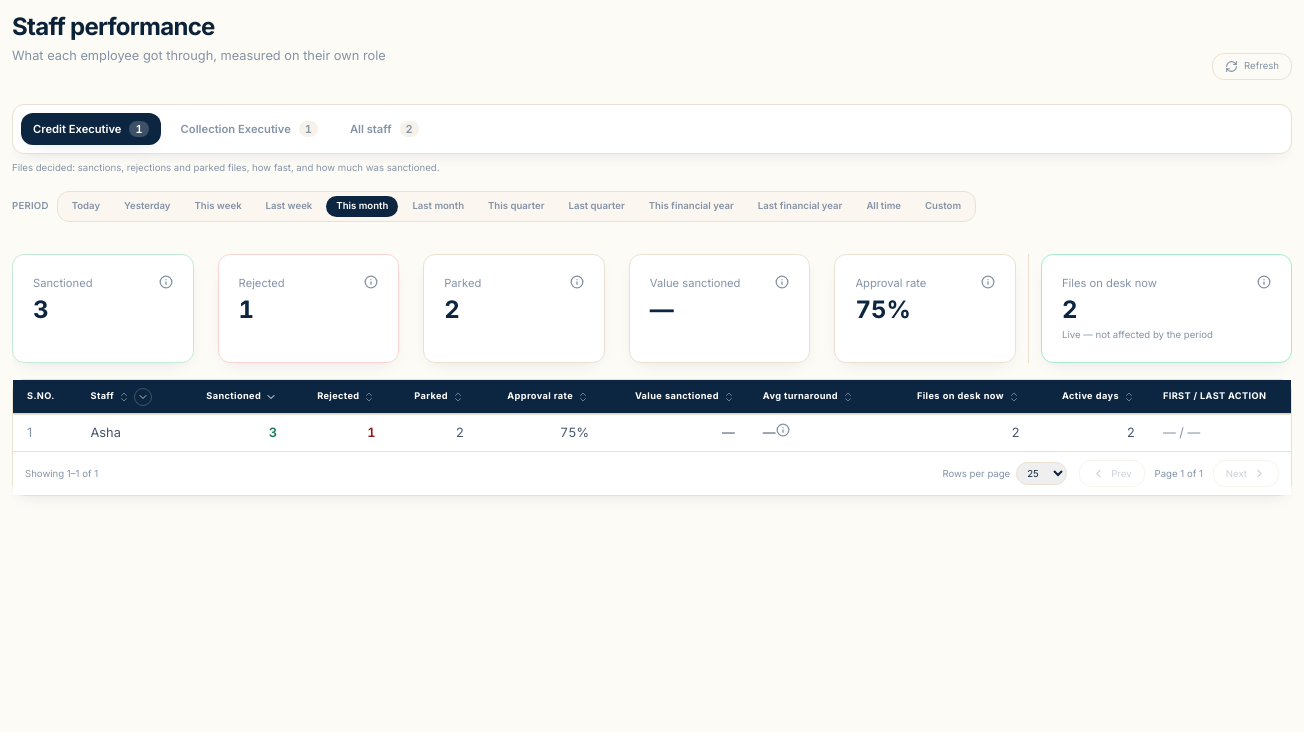
Test: StaffPerformancePage › switches entity to show that role's own parameters and only its staff
Expected: the text "Bilal" is not shown
What coordinates should you click on to do the following:
click the tab "Collection Executive 1"
I would click on:
 (249, 129)
Its box is [169,113,330,145].
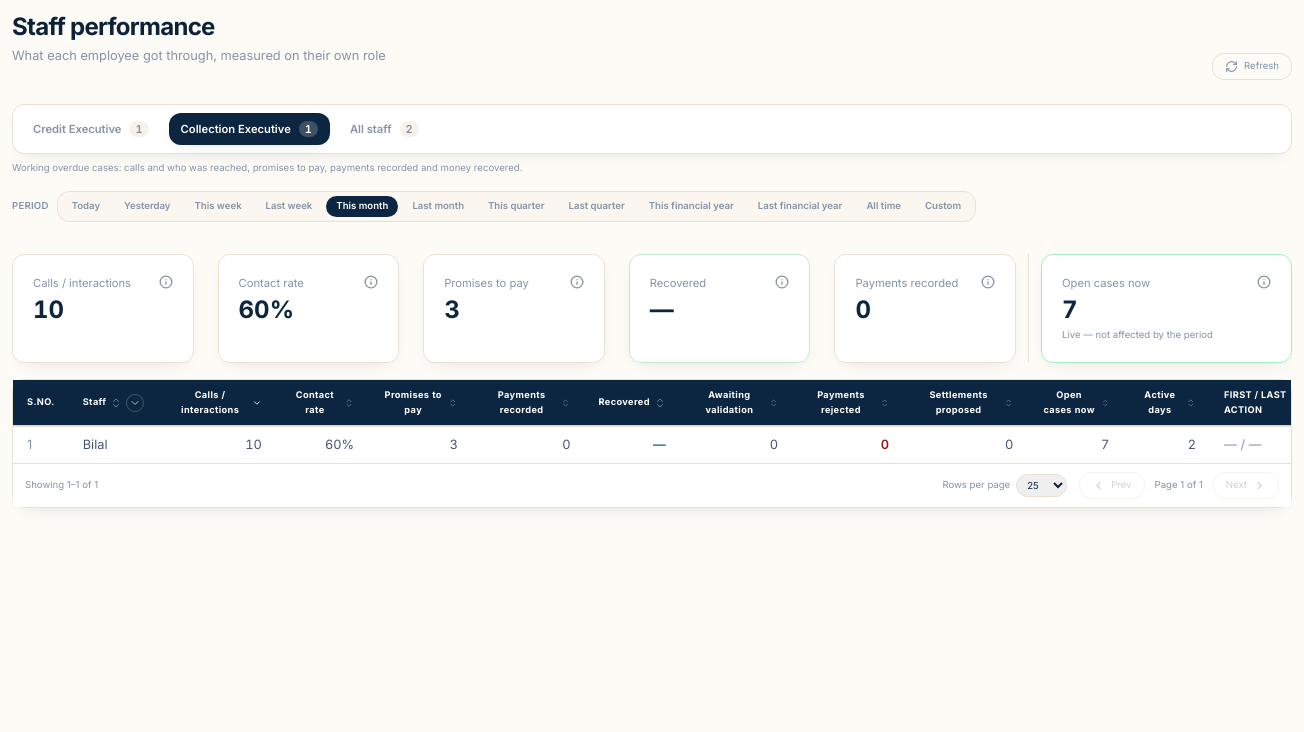
Now the text "Asha" is gone
Now the button with aria-label "Sort by Promises to pay" is shown, box [382,388,458,418]
Now the text "60%" is shown, box [239,294,294,324]
